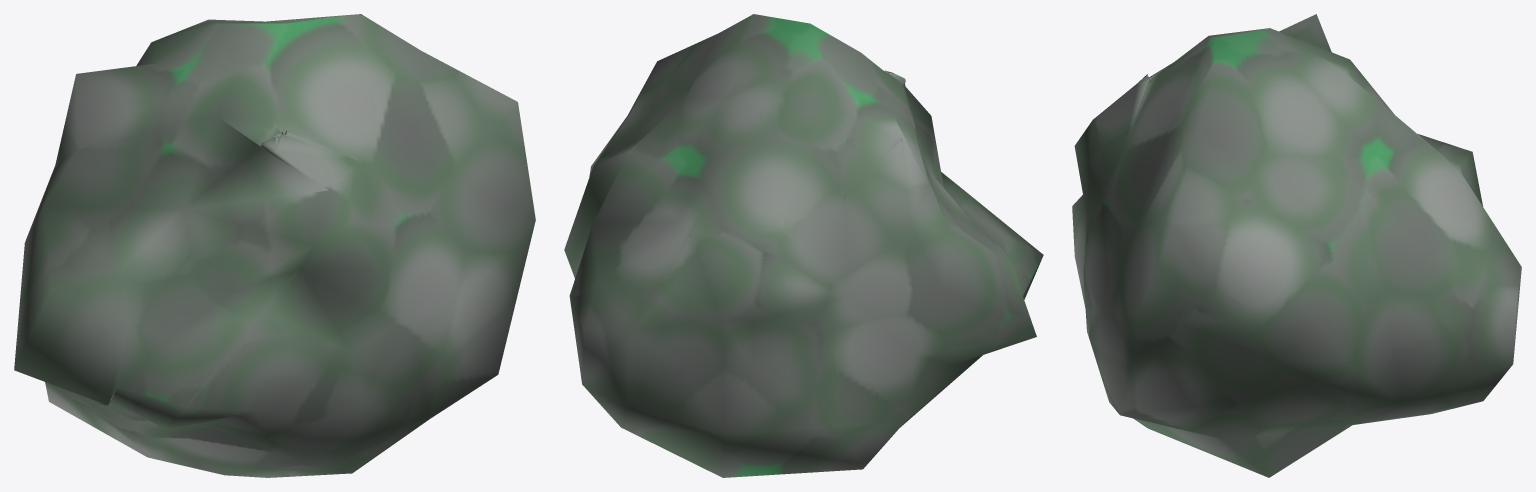
File: my_mesh_rock SubTool10.glb
3 renders of one model, left to right at view 1: azimuth 30°, elevation 25°; view 2: azimuth 150°, elevation 25°; view 3: azimuth 270°, elevation 25°, orthographic. The views are drawn at different scales.
Visible parts, largest first — view 1: rock SubTool10; view 2: rock SubTool10; view 3: rock SubTool10.
Part boxes in pixels (x1=…): rock SubTool10: x1=14, y1=14, x2=535, y2=477; rock SubTool10: x1=564, y1=14, x2=1043, y2=477; rock SubTool10: x1=1072, y1=14, x2=1521, y2=477.
Size of the model in its own units: 4.71 by 4.2 by 4.12.
1 material, 1 textured.
